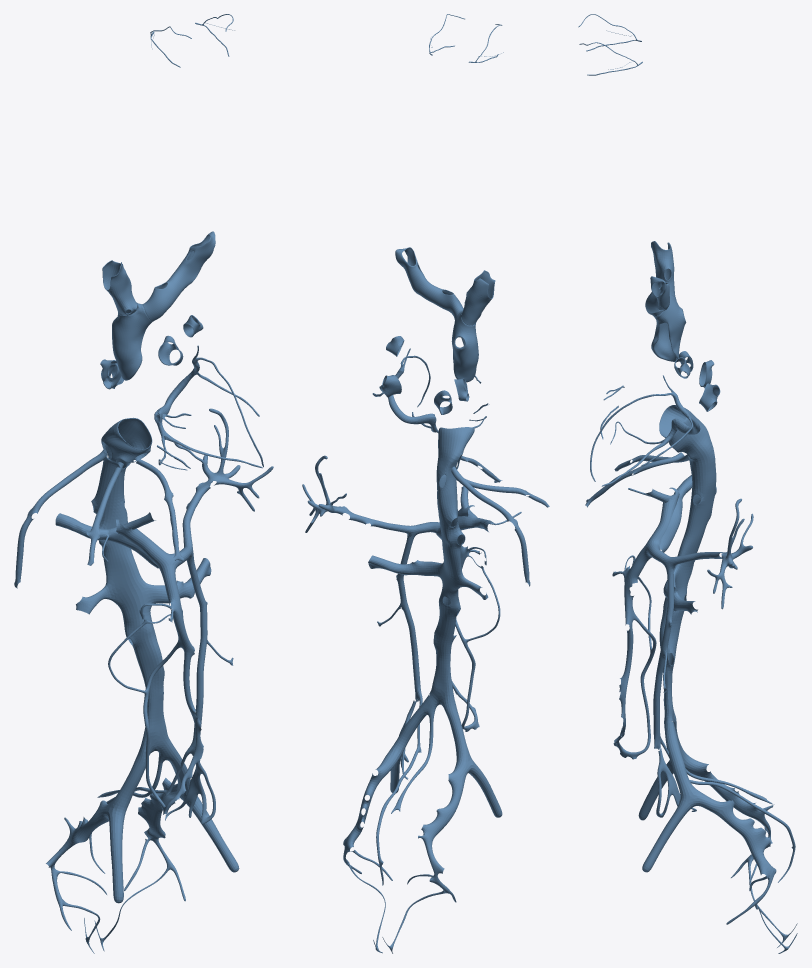
File: trunk_veins.glb
3 renders of one model, left to right at view 1: azimuth 30°, elevation 25°; view 2: azimuth 150°, elevation 25°; view 3: azimuth 270°, elevation 25°, orthographic. The views are drawn at different scales.
Visible parts, largest first — view 1: trunk_veins; view 2: trunk_veins; view 3: trunk_veins.
Boxes of the visible parts, bbox=[...] form: trunk_veins: bbox=[14, 14, 273, 953]; trunk_veins: bbox=[302, 14, 549, 953]; trunk_veins: bbox=[578, 14, 797, 953].
Size of the model in its own units: 0.2362 by 0.8718 by 0.1874.
